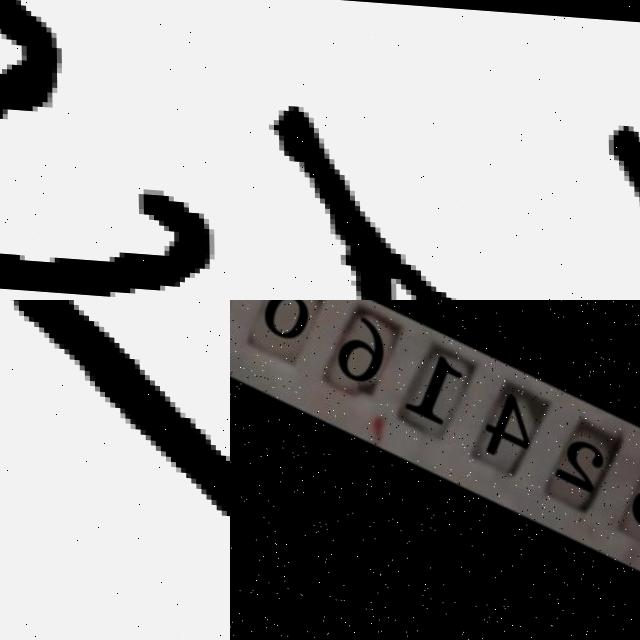0: (246, 300, 329, 364)
1: (395, 331, 478, 435)
2: (545, 407, 622, 506)
4: (467, 367, 552, 476)
5: (618, 441, 640, 541)
6: (322, 300, 406, 399)
S: (0, 0, 214, 285)
U: (267, 87, 640, 300)
V: (0, 300, 230, 599)
